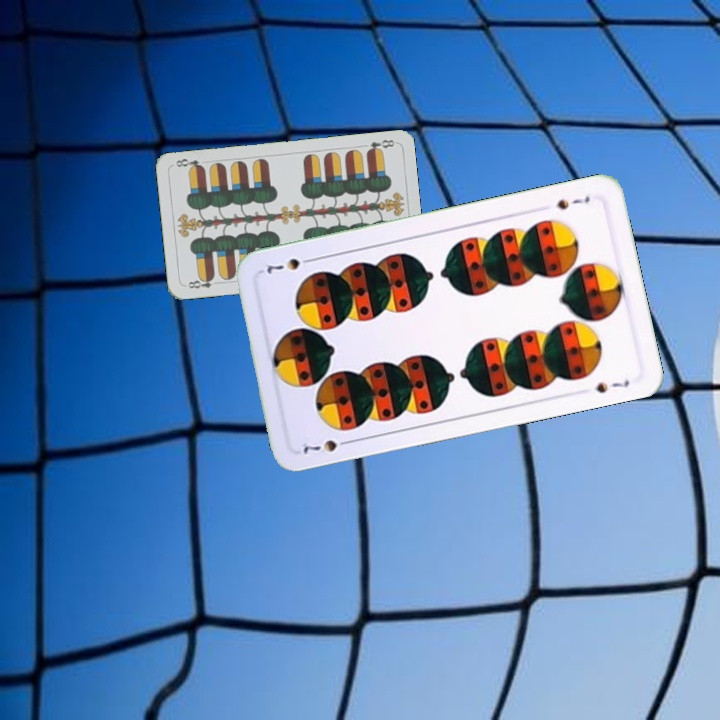E8: (362, 135, 397, 156), (184, 272, 222, 291)
S7: (298, 435, 355, 457), (552, 191, 593, 212)
